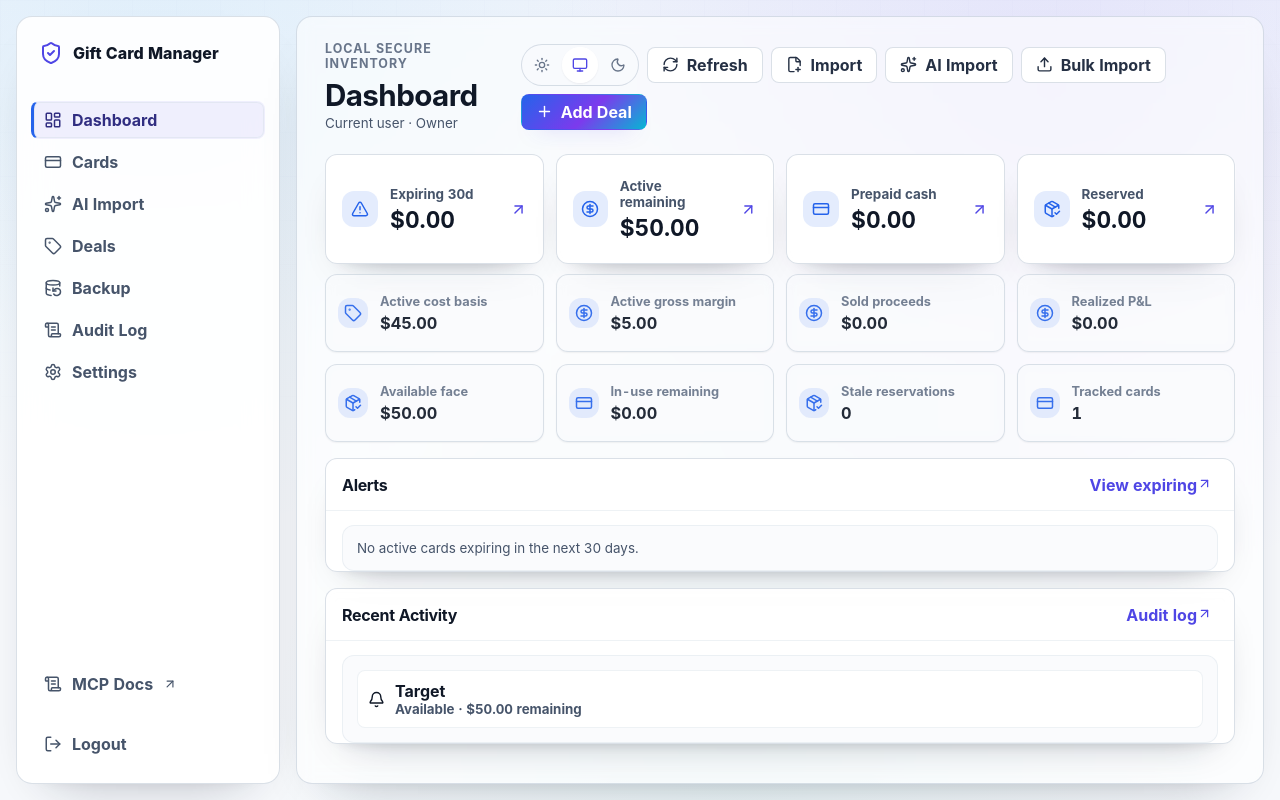
Scenario: App › renders the authenticated work surface with cards and deals
Expected: the heading "Dashboard" is shown, [325,79,503,112]
Expected: the navigation bar named "primary" is shown, [31,101,265,391]
Click the button "Deals".
click(148, 246)  # box [31,227,265,265]
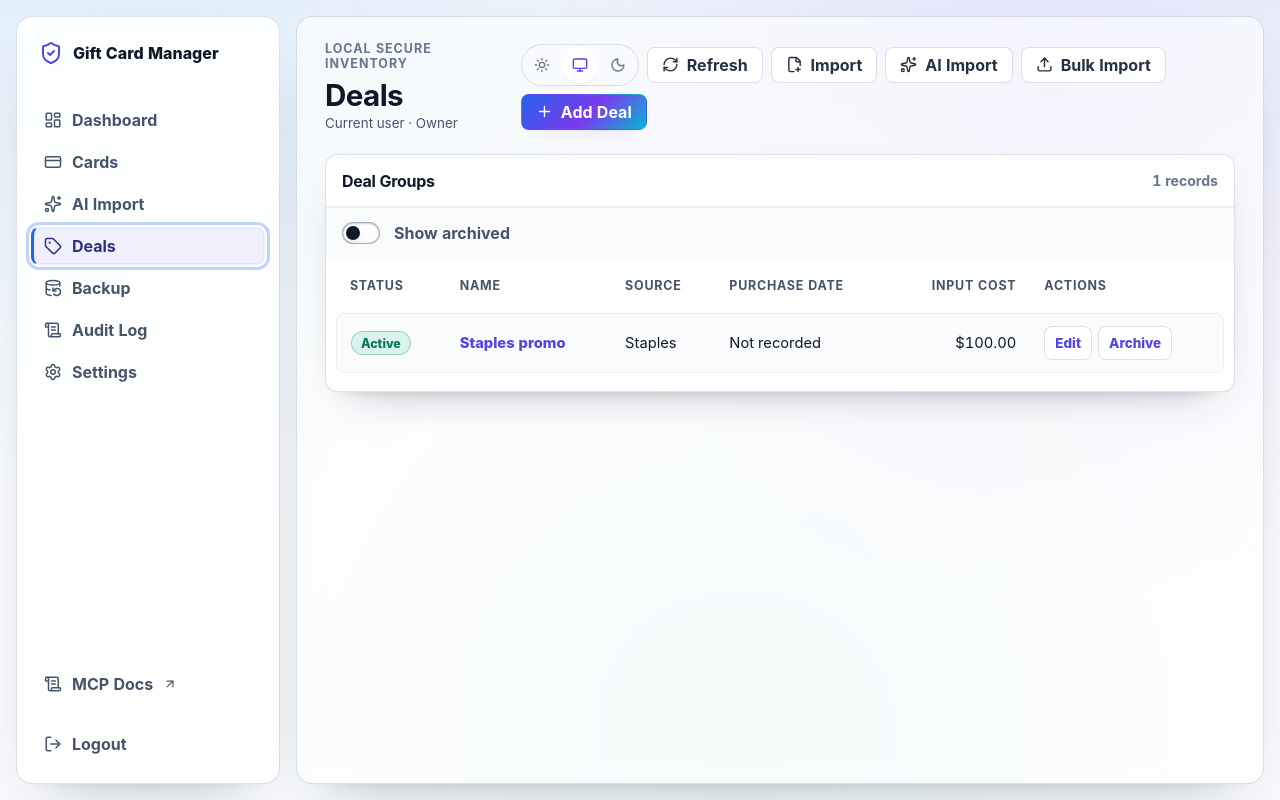
Result: the button "Staples promo" is shown at [460,334,566,352]
